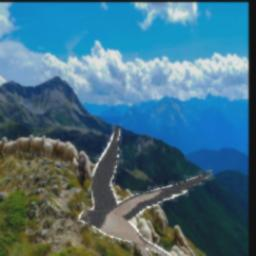Swallow: (76, 124, 213, 256)
